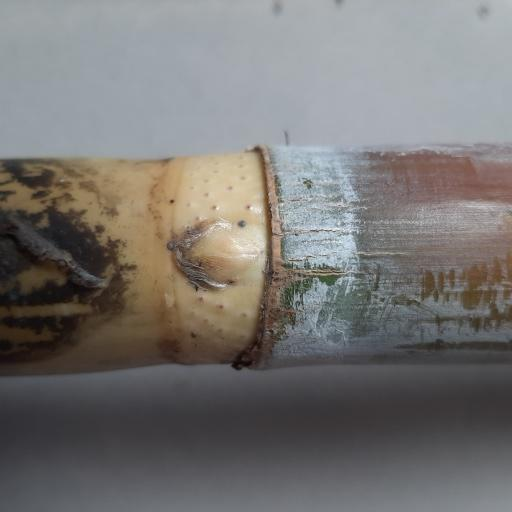Bud: (172, 215, 260, 289)
